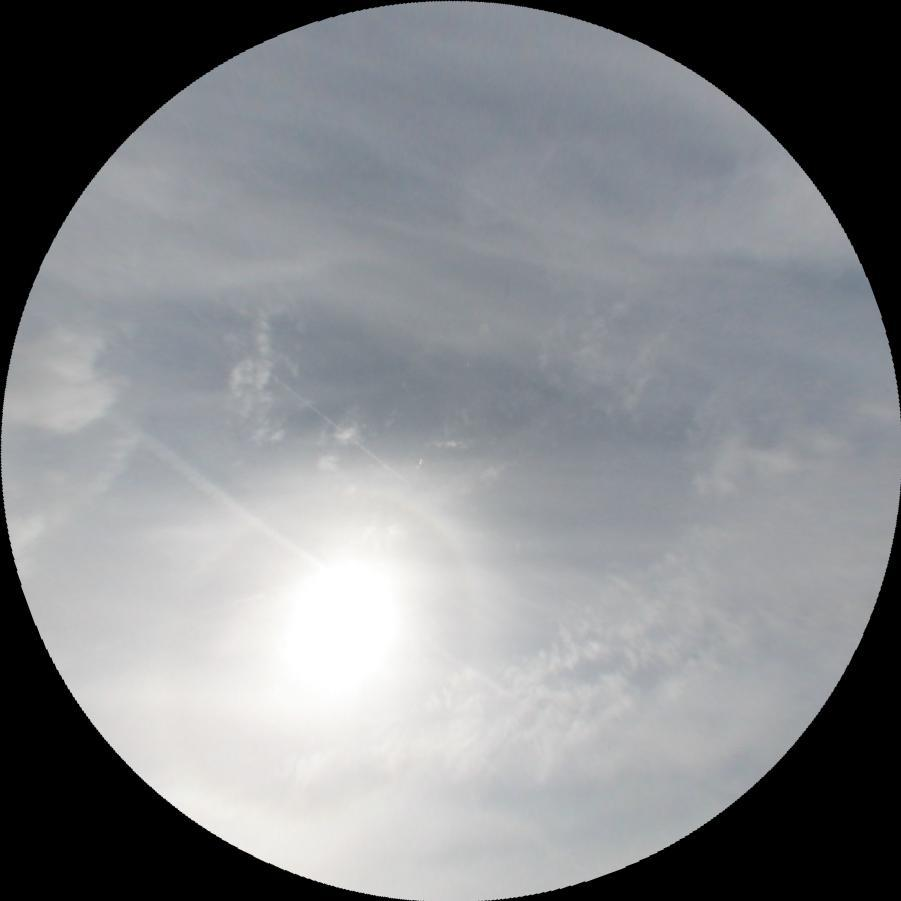contrail old: (100, 401, 502, 704)
contrail young: (183, 301, 402, 479)
parasite: (53, 578, 299, 664)
sun: (270, 547, 408, 708)
